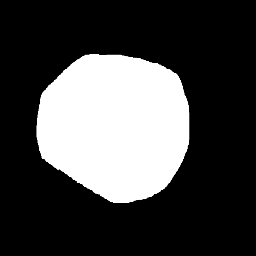mass: (38, 55, 178, 194)
